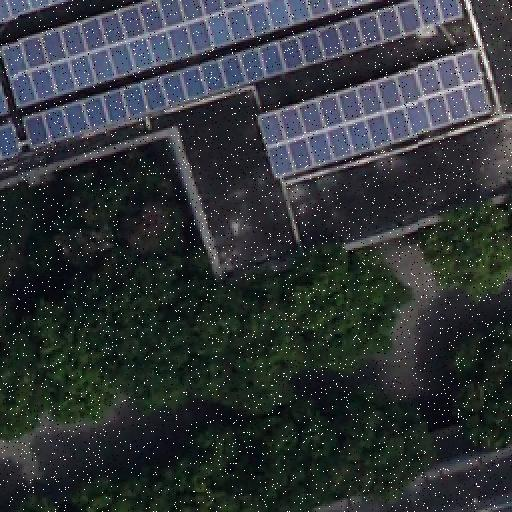solar-panel: (22, 0, 466, 154), (0, 0, 378, 112), (259, 49, 493, 183), (0, 0, 72, 24), (1, 121, 23, 159), (0, 78, 12, 118)
